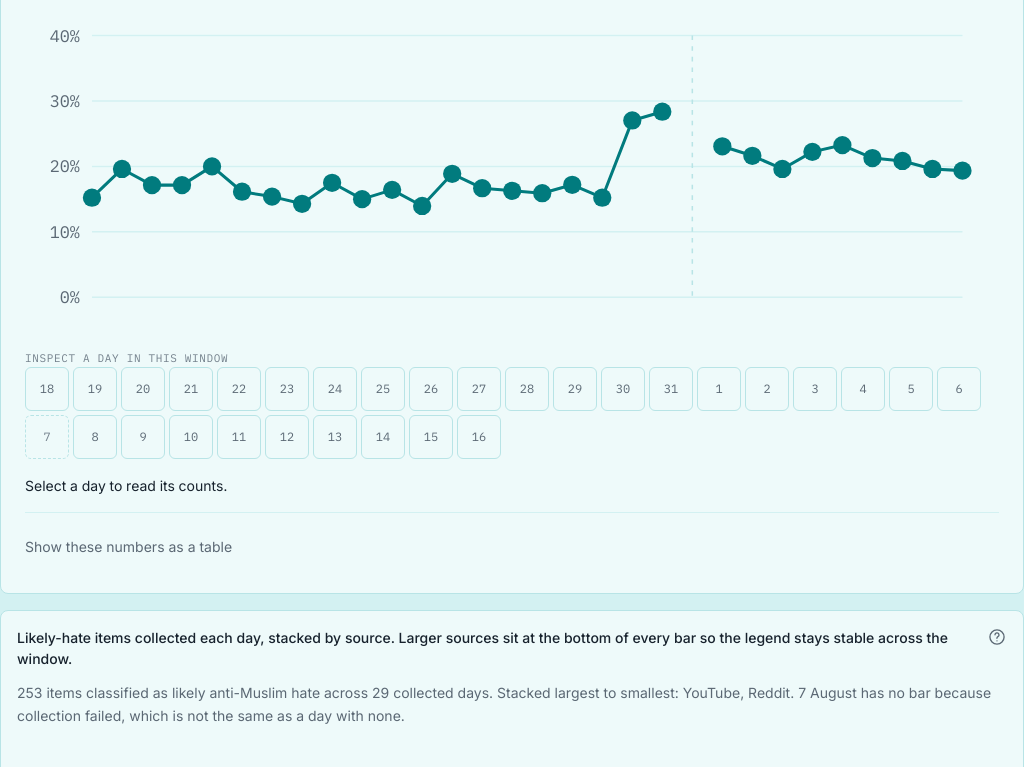
Test: OverviewPage › starts a snapshot insight from a collected day
(page scrolled)
Click the button named "16 august" at (479, 437), box [457, 415, 501, 459]
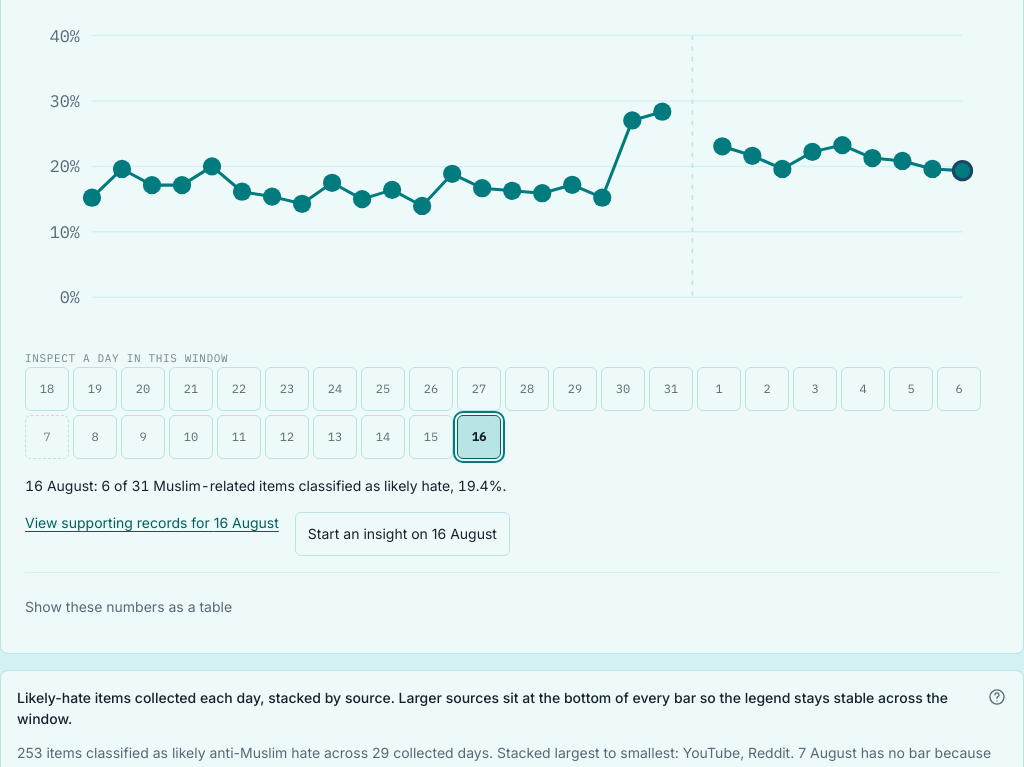
Click the button "Start an insight on 16 August" at (402, 534), box [295, 512, 510, 556]
(page scrolled)
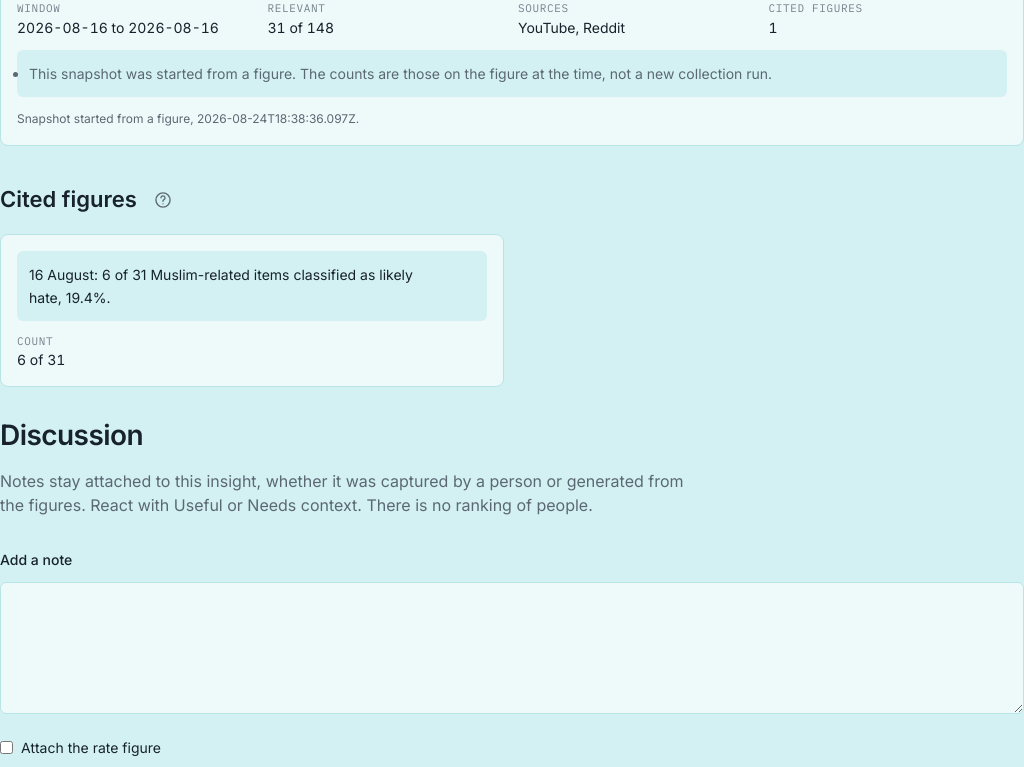
Check: the text "Snapshot started from a figure, 2026-08-24T18:38:36.097Z." is shown, box [17, 111, 359, 126]
Check: the heading "Discussion" is shown, box [0, 418, 143, 452]
